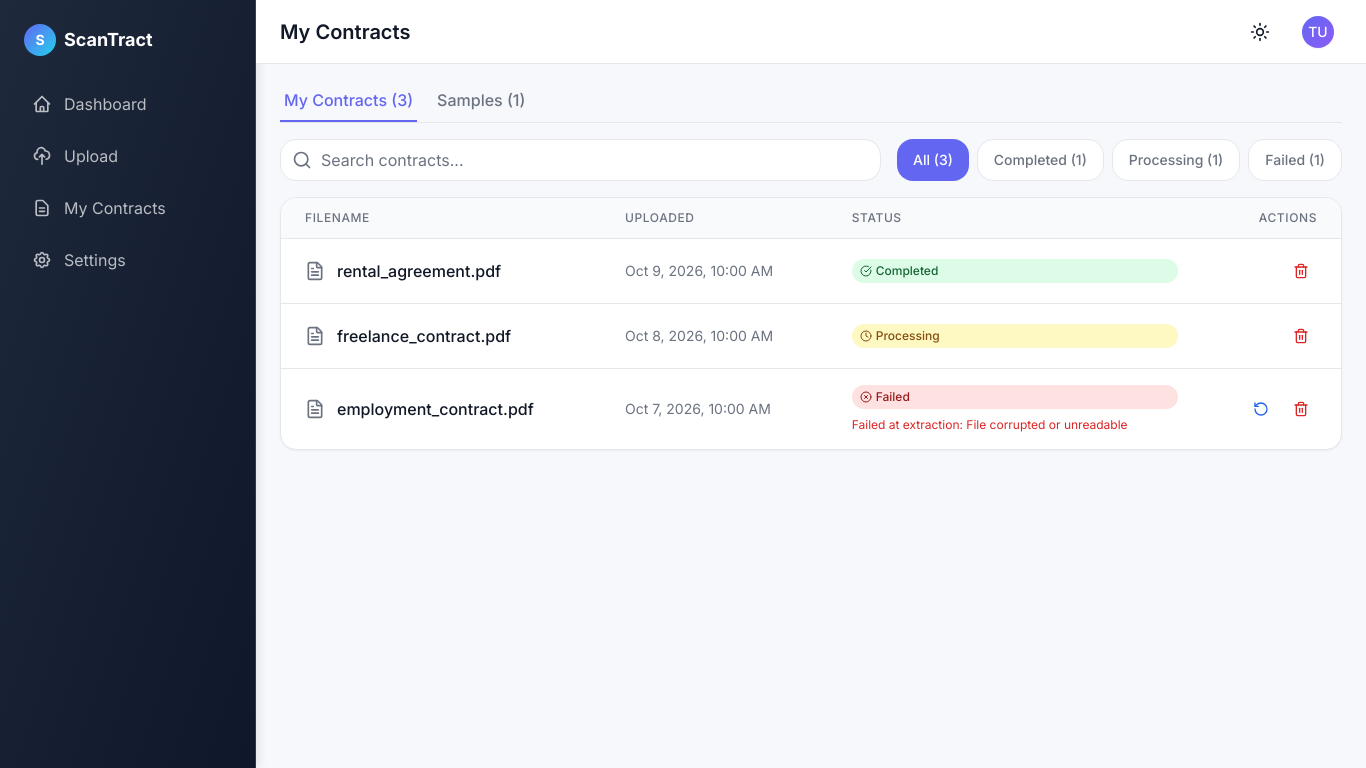
Test: ContractsPage › clicking Delete opens confirmation modal
The image size is (1366, 768).
# Click first Delete button (desktop view)
Click the button titled "Delete contract" in the row of "Oct 9, 2026, 10:00 AM" at {"x": 1301, "y": 271}, box [1285,255,1317,287]
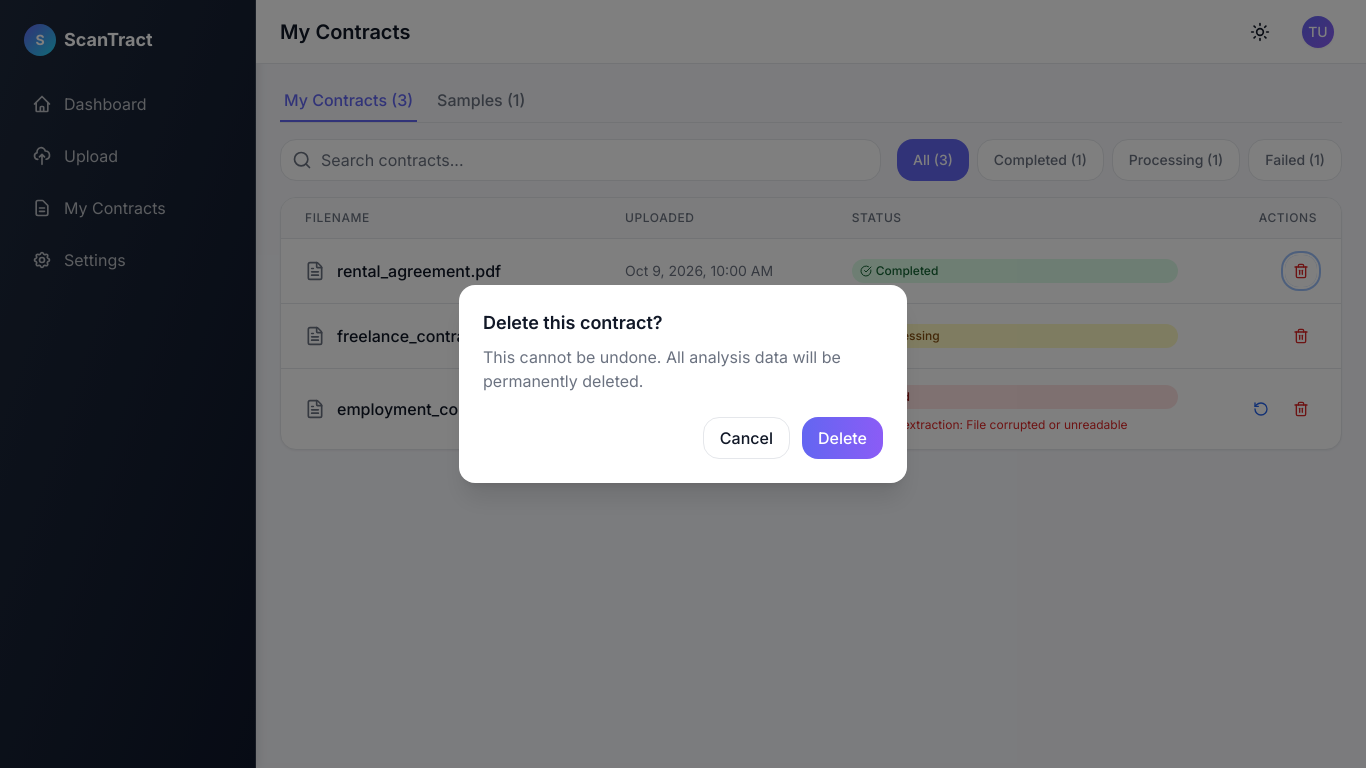
Expected: the heading "Delete this contract?" is shown, [483,312,663,333]
Expected: the text "This cannot be undone" is shown, [483,347,841,391]
